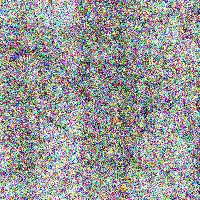crazing: (75, 50, 183, 172), (9, 30, 75, 140)
